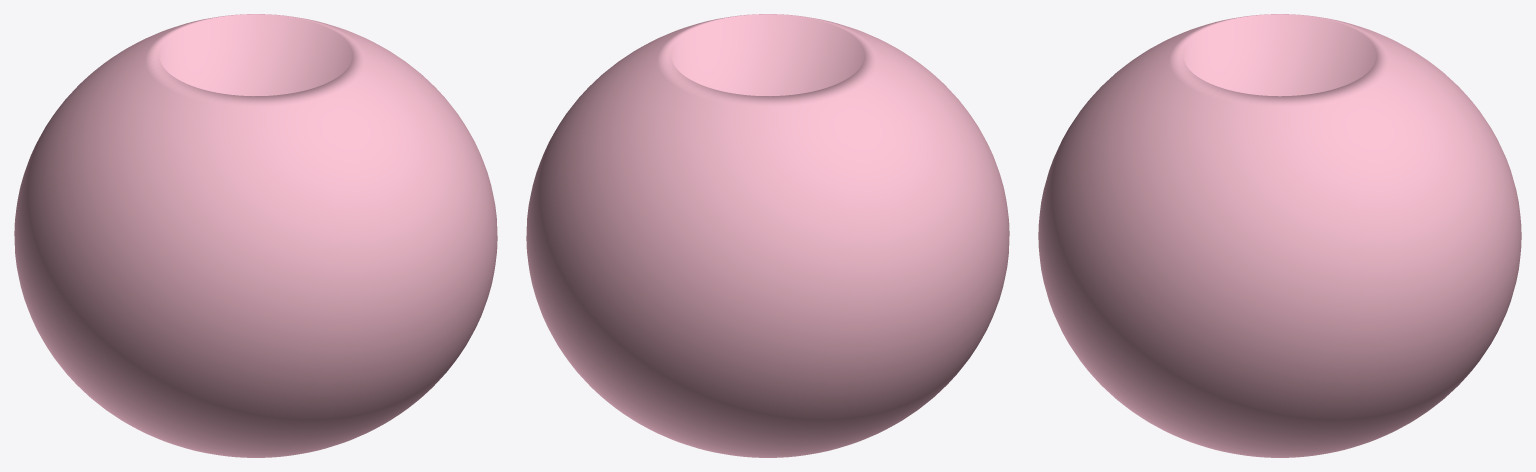
The model's file is spacer-304-glass.glb.
The picture shows the model from 3 angles, left to right: view 1: azimuth 30°, elevation 25°; view 2: azimuth 150°, elevation 25°; view 3: azimuth 270°, elevation 25°; orthographic projection.
Visible parts, largest first — view 1: Spacer with through bore.003; view 2: Spacer with through bore.003; view 3: Spacer with through bore.003.
Boxes of the visible parts, <box> form: Spacer with through bore.003: <box>14,14,497,457</box>; Spacer with through bore.003: <box>526,14,1009,457</box>; Spacer with through bore.003: <box>1038,14,1521,457</box>.
Size of the model in its own units: 0.002 by 0.00165 by 0.002.
